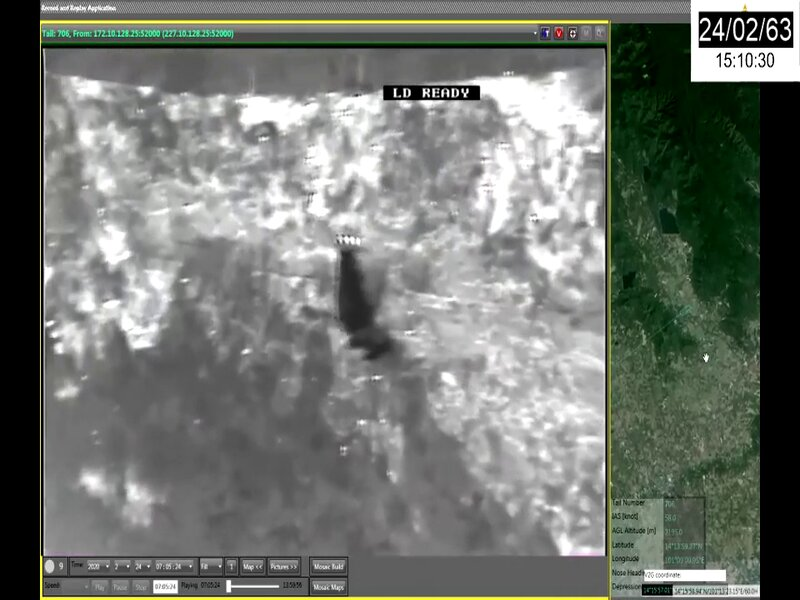Fire: (482, 71, 603, 280)
